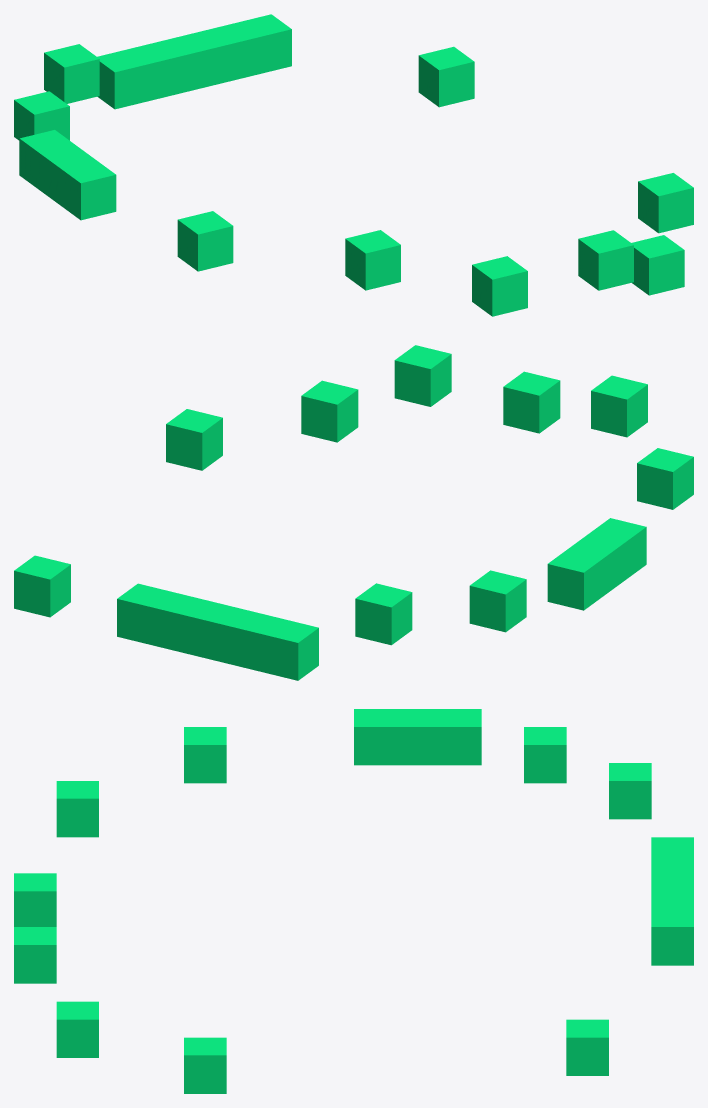
File: luzsaturno-verde3.obj
3 views of the same model, one above another, from view 1: azimuth 30°, elevation 25°; view 2: azimuth 150°, elevation 25°; view 3: azimuth 270°, elevation 25° (orthographic). The views are drawn at different scales.
Size of the model in its own units: 1.5 by 0.3 by 1.6.
1 material, 1 textured.
